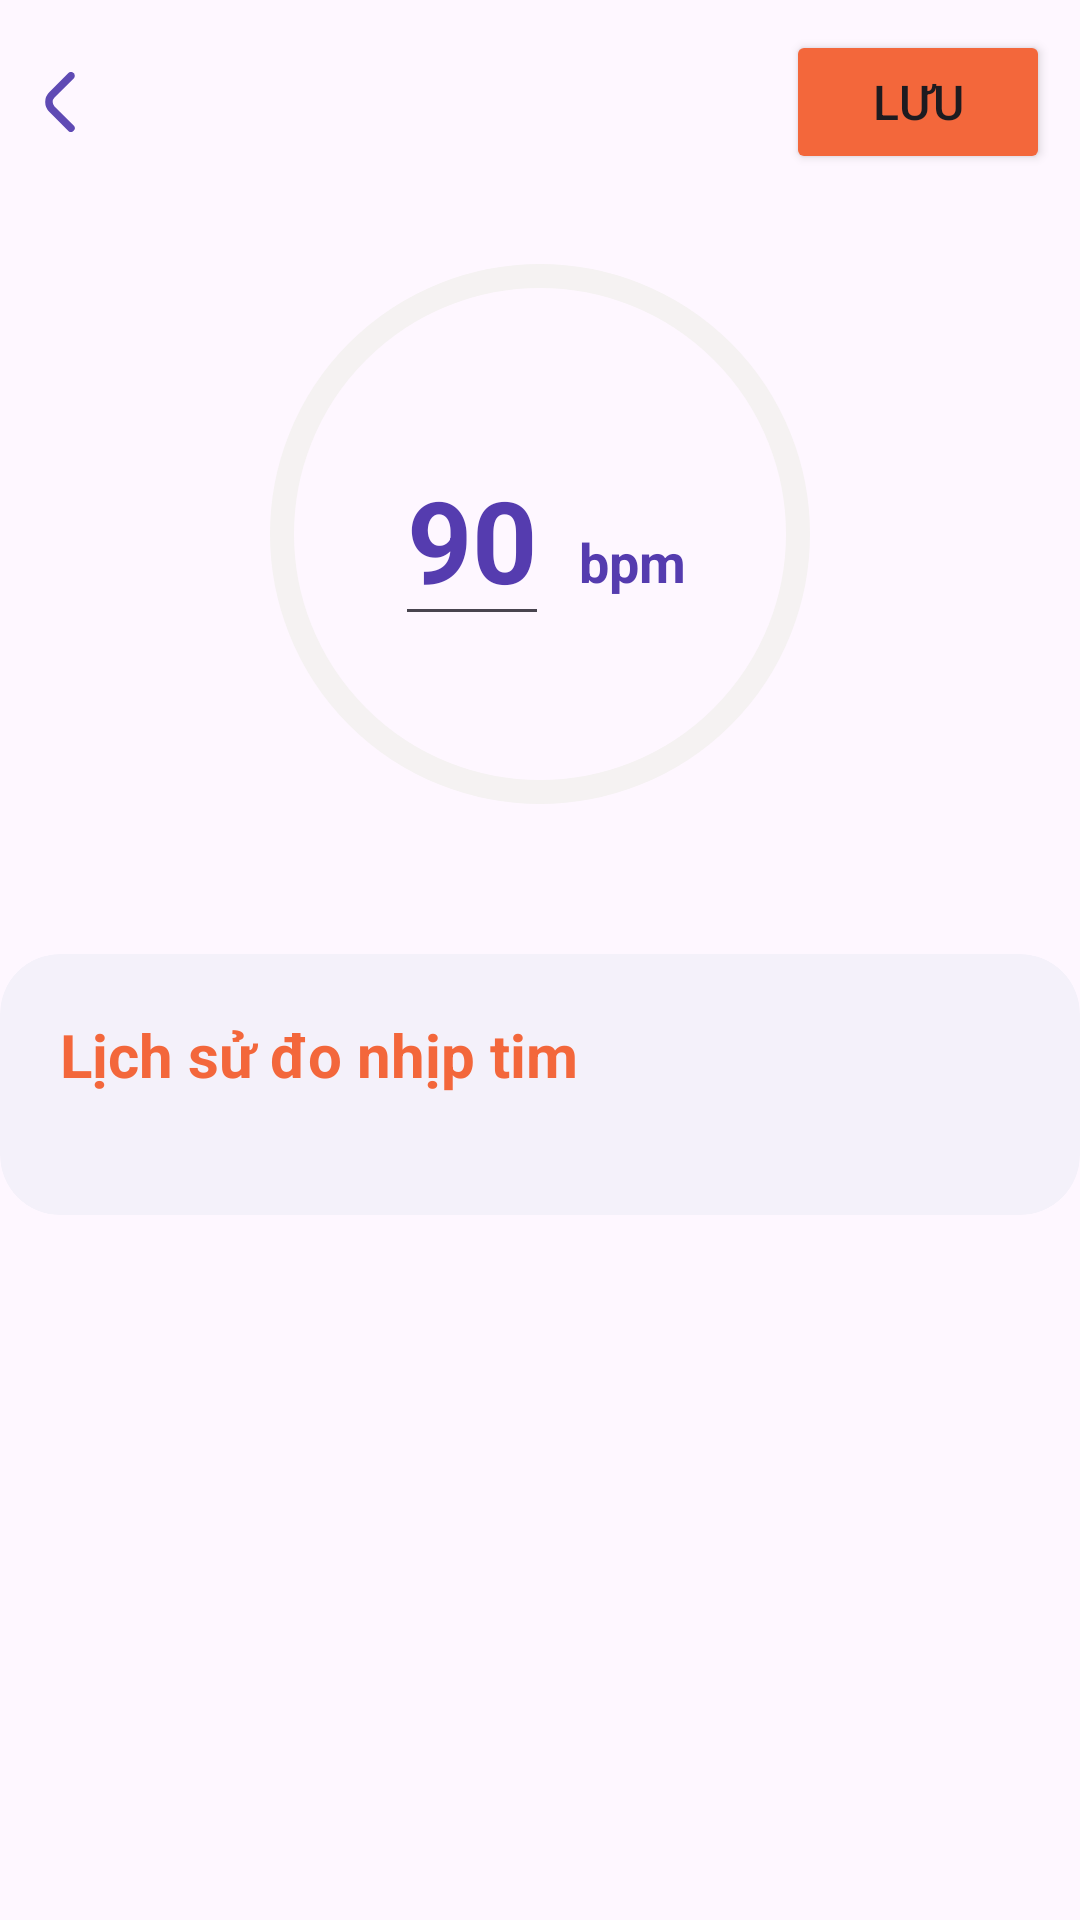

Where to tap for icons on this 1080x1920 app screen, as (x=x, y=y):
back: (x=60, y=102)
